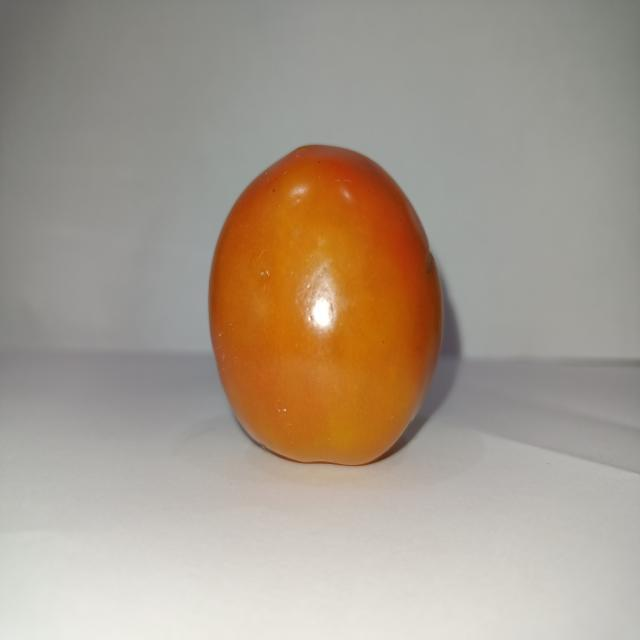Red: (206, 141, 445, 466)
